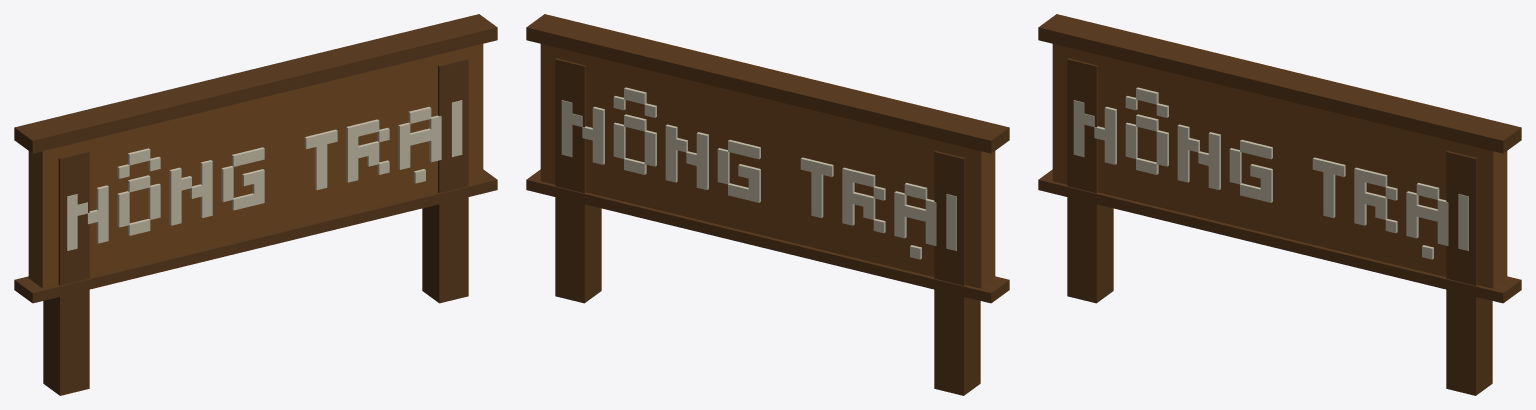
Rendered from nt-farm-sign.glb.
The picture shows the model from 3 angles, left to right: view 1: azimuth 30°, elevation 25°; view 2: azimuth 150°, elevation 25°; view 3: azimuth 330°, elevation 25°; orthographic projection.
Visible parts, largest first — view 1: box-prop; view 2: box-prop; view 3: box-prop.
Boxes of the visible parts, left/top/right/bottom form: box-prop: left=14, top=14, right=497, bottom=395; box-prop: left=526, top=14, right=1009, bottom=395; box-prop: left=1038, top=14, right=1521, bottom=395.
Bounding box in the file's own units: 3.8 × 2.05 × 0.26.
